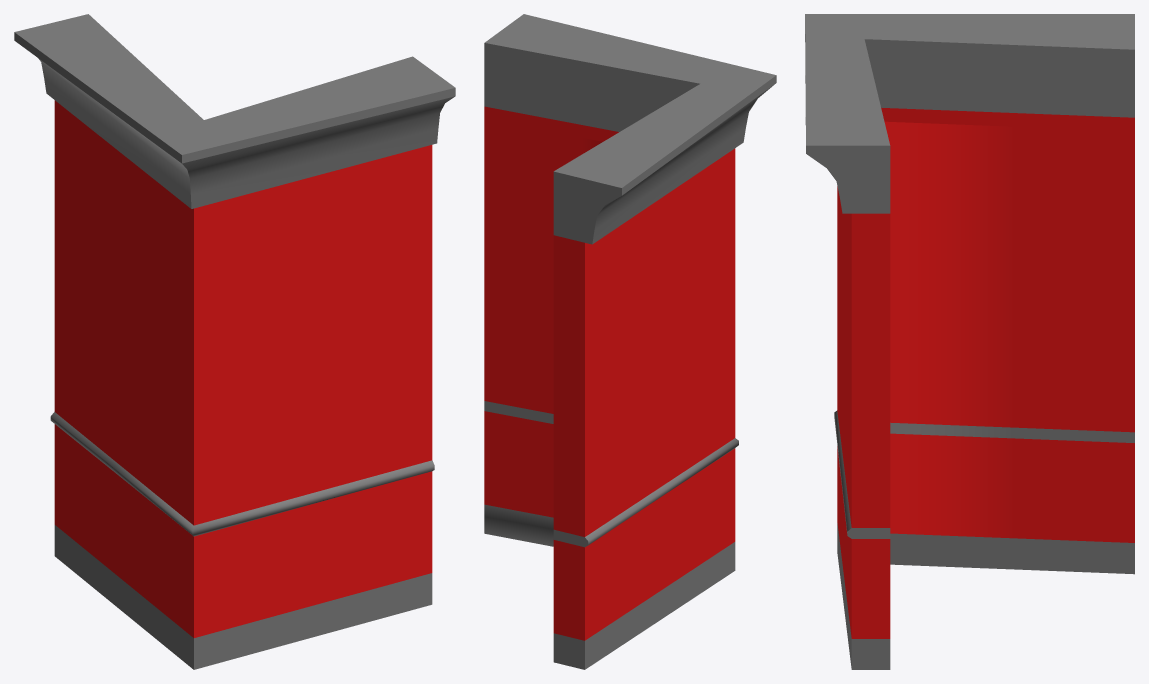
Rendered from Wall2_Top_Cornor.fbx.
The picture shows the model from 3 angles, left to right: view 1: azimuth 30°, elevation 25°; view 2: azimuth 150°, elevation 25°; view 3: azimuth 270°, elevation 25°; orthographic projection. The views are drawn at different scales.
Visible parts, largest first — view 1: Wall003_Top_Cornor; view 2: Wall003_Top_Cornor; view 3: Wall003_Top_Cornor.
Boxes of the visible parts, bbox=[...] form: Wall003_Top_Cornor: bbox=[14, 14, 455, 669]; Wall003_Top_Cornor: bbox=[484, 14, 776, 669]; Wall003_Top_Cornor: bbox=[805, 14, 1134, 669].
Bounding box in the file's own units: 63.52 × 118 × 67.35.
